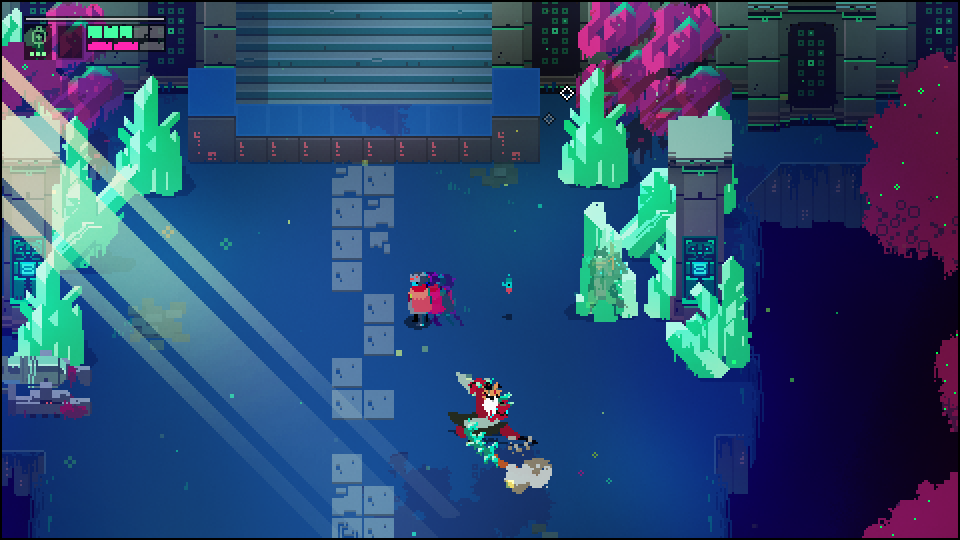hanged_man: (453, 368, 530, 475)
player: (406, 271, 431, 327)
